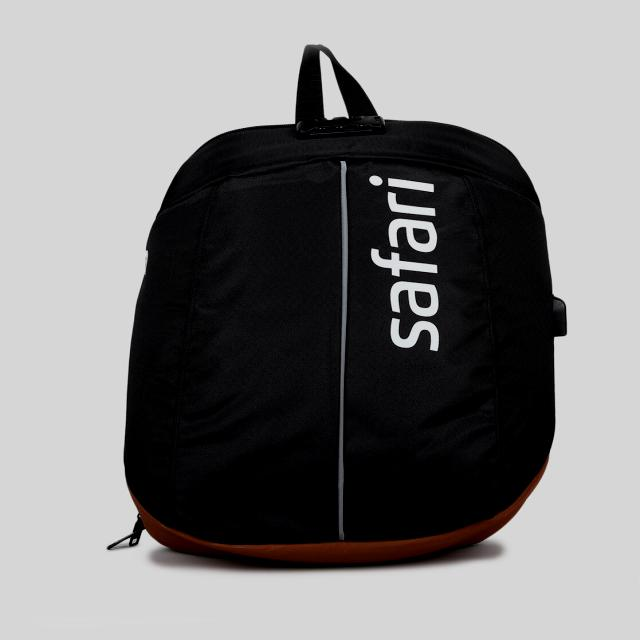backpack: (108, 44, 568, 566)
